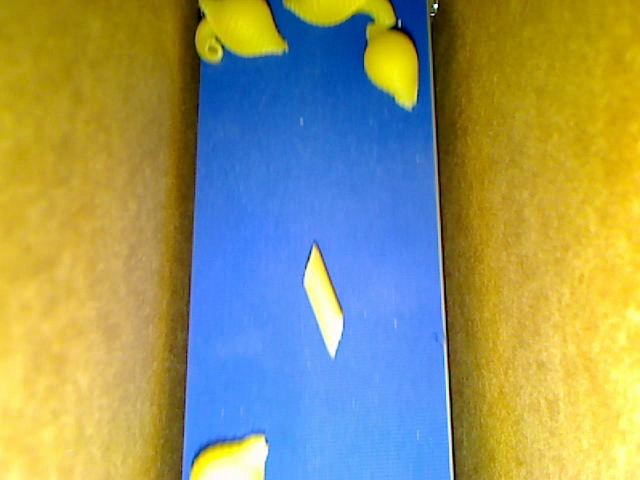elbow: (195, 18, 223, 63), (354, 1, 396, 29)
penne: (301, 240, 343, 357)
shell: (198, 1, 286, 58), (363, 23, 418, 109), (190, 433, 268, 479), (282, 1, 366, 27)
